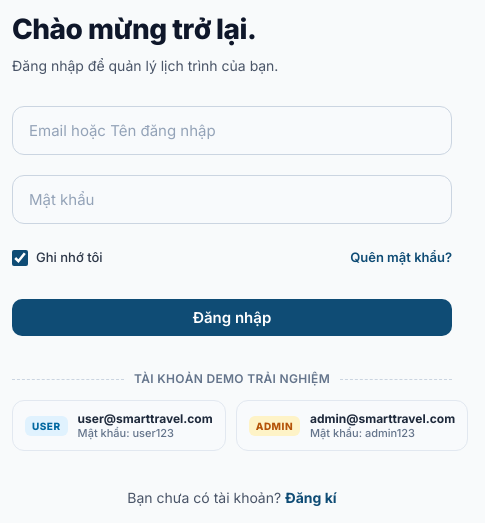
Test: Login.jsx › Gọi API qua AuthContext › hiển thị lỗi từ backend khi login() ném Error
The width and height of the screenshot is (485, 523).
Type "wrong@example.com" into the field with placeholder "Email hoặc Tên đăng nhập". click: (232,130)
box: [12, 106, 452, 155]
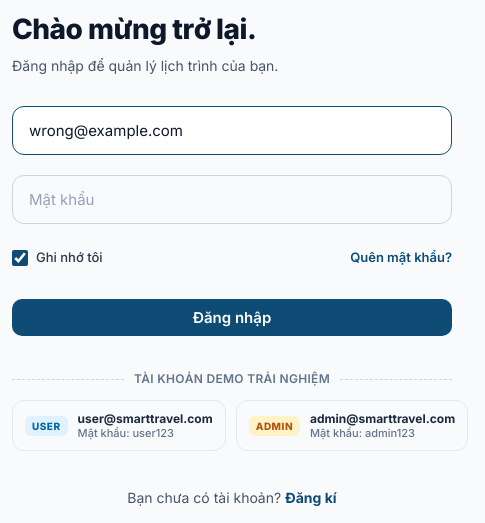
Type "wrongpassword" into the password field with placeholder "Mật khẩu". click: (232,199)
box: [12, 175, 452, 224]
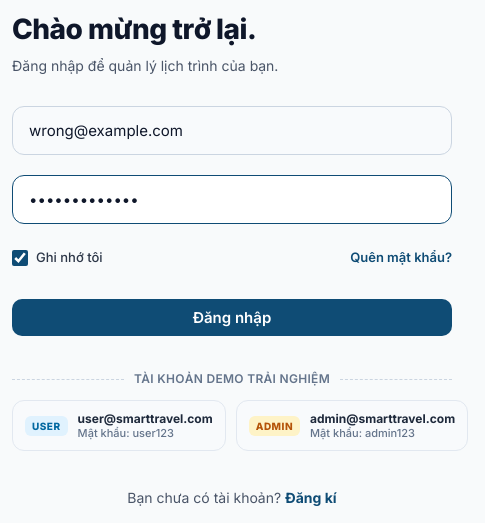
Click the button "Đăng nhập". click: (232,318)
box: [12, 299, 452, 336]
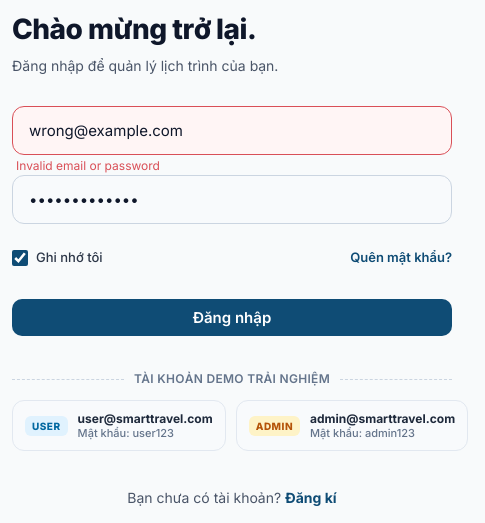
Check: the text "Invalid email or password" is shown, box [16, 157, 160, 175]
